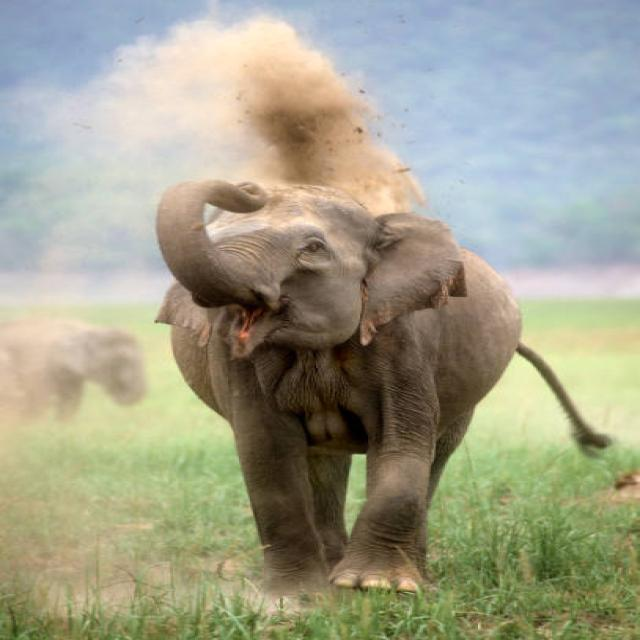Elephant: (147, 175, 615, 608)
